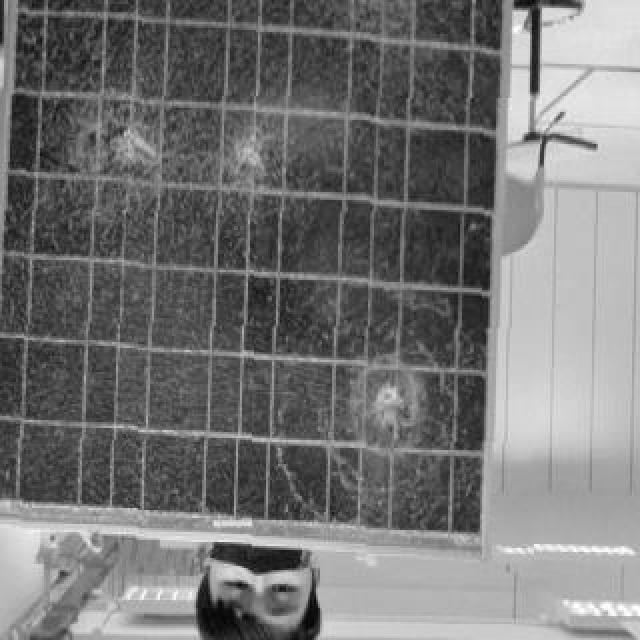Physical-damage: (237, 261, 491, 532), (47, 79, 380, 259)
